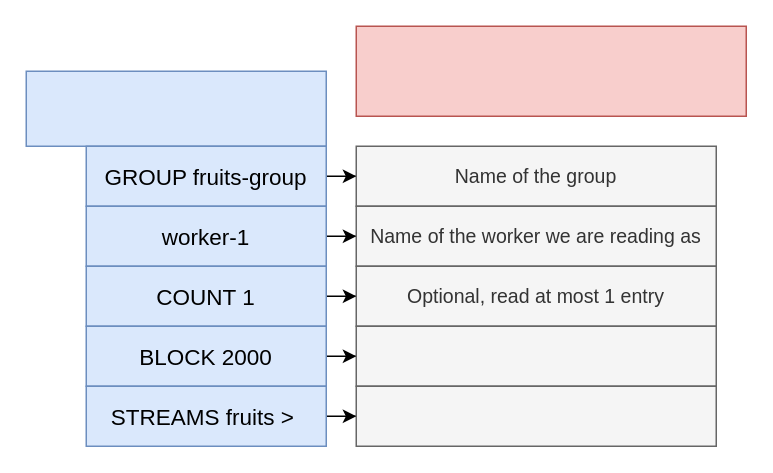
This 773x473 diagram has some shape labels left out. Here are the shapes that lost their labels. From the top down, the centre of each, then its label:
the point at 550,70: Do an XREAD, but with a different set of rules
the point at 175,108: XREADGROUP
the point at 535,355: Optional, block for 2000ms
the point at 535,415: Only messages that were not delivered to any other consumer in this group
